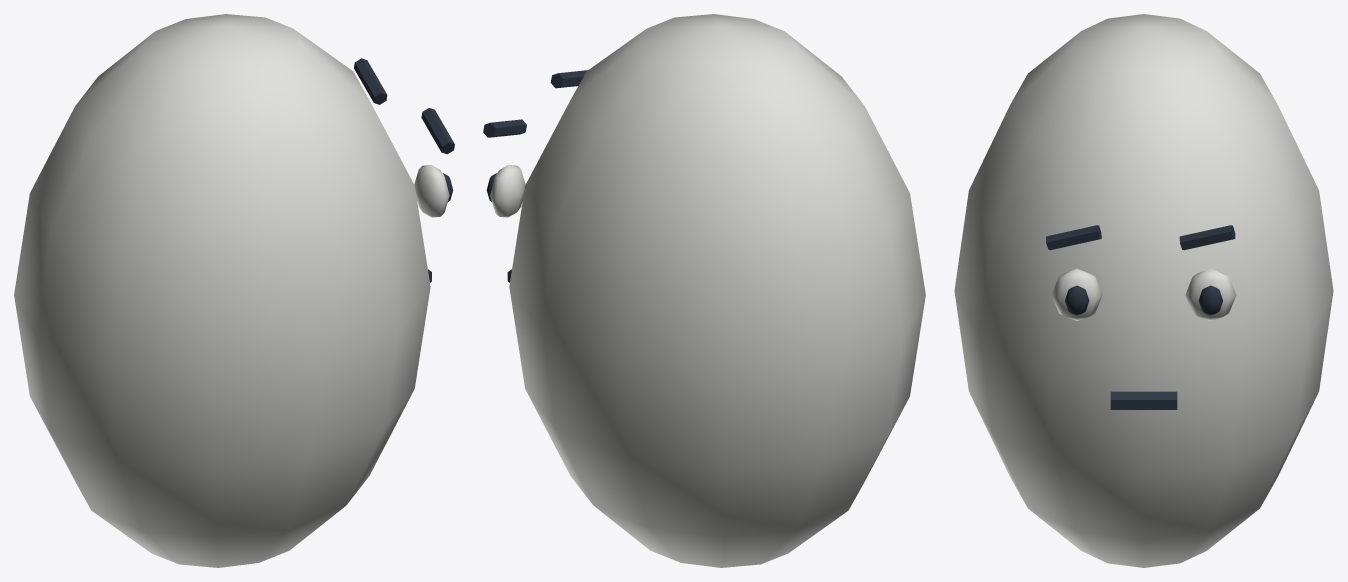
File: kart_egg.glb
3 renders of one model, left to right at view 1: azimuth 30°, elevation 25°; view 2: azimuth 150°, elevation 25°; view 3: azimuth 270°, elevation 25°, orthographic.
Parts seen in each view (by area): view 1: Worried egg, Eye white.001, Worried eyebrow.001, Worried eyebrow; view 2: Worried egg, Eye white, Worried eyebrow.001; view 3: Worried egg, Eye white.001, Eye white, Worried mouth, Worried eyebrow.001, Worried eyebrow, Pupil.001, Pupil.
Boxes of the visible parts, box(x1,y1,x2,y2) form: Worried egg: box(14, 14, 430, 567); Eye white.001: box(414, 164, 449, 217); Worried eyebrow.001: box(354, 58, 387, 104); Worried eyebrow: box(421, 108, 454, 154); Worried egg: box(509, 14, 925, 567); Eye white: box(490, 164, 525, 217); Worried eyebrow.001: box(483, 119, 526, 137); Worried egg: box(954, 14, 1333, 567); Eye white.001: box(1051, 269, 1102, 320); Eye white: box(1185, 269, 1236, 320); Worried mouth: box(1110, 391, 1177, 409); Worried eyebrow.001: box(1179, 225, 1235, 250); Worried eyebrow: box(1046, 225, 1101, 250); Pupil.001: box(1065, 285, 1089, 315); Pupil: box(1198, 285, 1222, 315).
Size of the model in its own units: 1.95 by 2.6 by 1.7.
